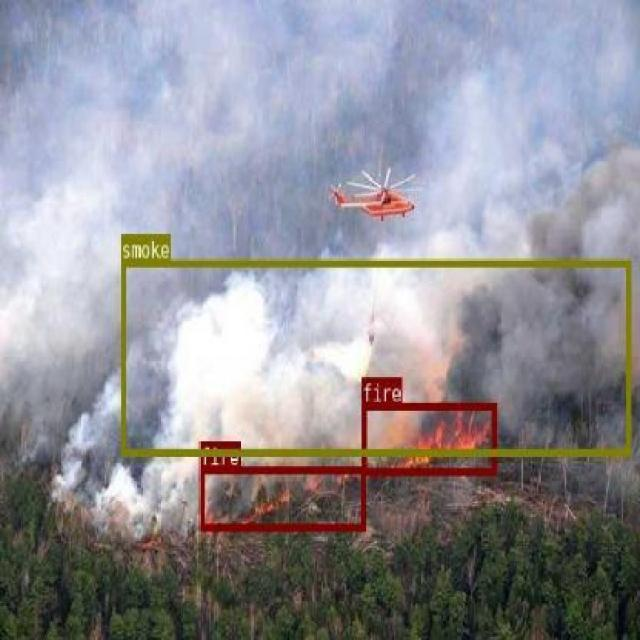CIV_Plane: (199, 465, 364, 530), (361, 402, 496, 473)
Fire: (199, 465, 364, 530), (361, 402, 496, 473)
Smoke: (119, 258, 630, 455)
